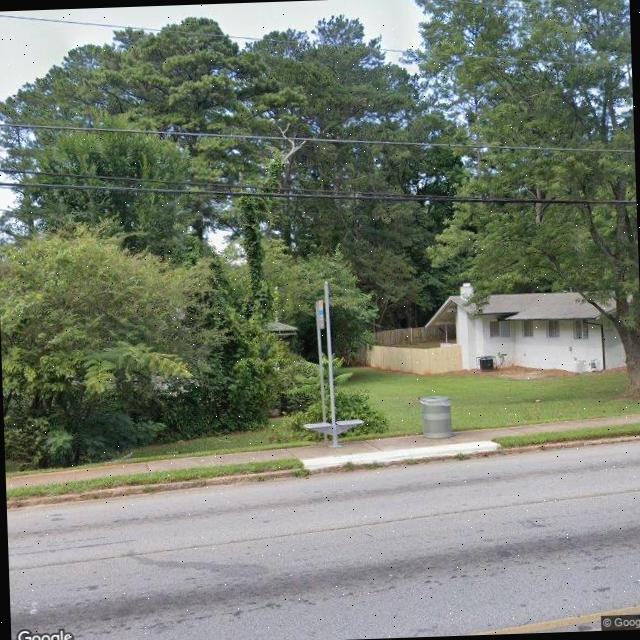seating: (302, 419, 363, 447)
trash_can: (420, 394, 452, 440)
